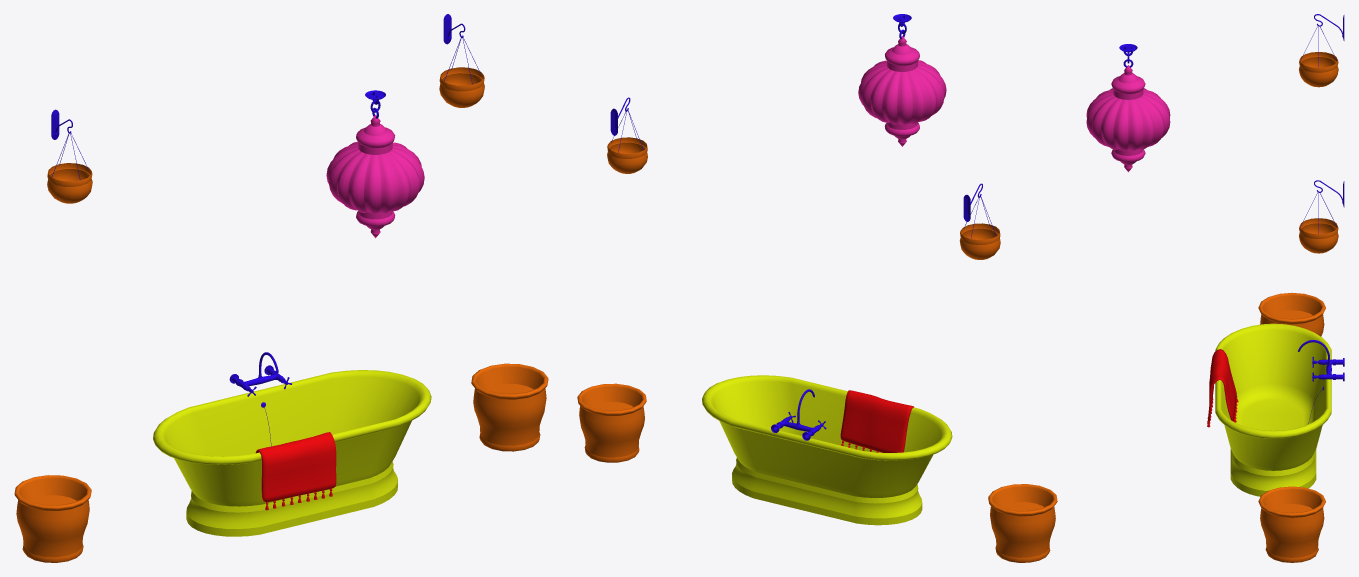
The model's file is sm_bathtub.fbx.
3 renders of one model, left to right at view 1: azimuth 30°, elevation 25°; view 2: azimuth 150°, elevation 25°; view 3: azimuth 270°, elevation 25°, orthographic. The views are drawn at different scales.
Parts seen in each view (by area): view 1: sm_tub, sm_flowerpot.001, sm_flowerpot, sm_lamp.004, sm_towel.019, sm_hanging_pot.004, sm_hanging_pot.005, sm_lamp.005, sm_faucet; view 2: sm_tub, sm_flowerpot.001, sm_flowerpot, sm_lamp.004, sm_towel.019, sm_hanging_pot.005, sm_hanging_pot.004, sm_lamp.005; view 3: sm_tub, sm_flowerpot.001, sm_lamp.004, sm_flowerpot, sm_hanging_pot.004, sm_hanging_pot.005, sm_towel.019, sm_lamp.005, sm_faucet, sm_lamp.006.
Part boxes in pixels (x1,y1,x2,y2): sm_tub: (153,370,431,536); sm_flowerpot.001: (471,363,548,451); sm_flowerpot: (14,475,91,562); sm_lamp.004: (326,141,424,213); sm_towel.019: (255,432,336,502); sm_hanging_pot.004: (439,67,484,107); sm_hanging_pot.005: (47,163,92,203); sm_lamp.005: (356,115,395,154); sm_faucet: (229,352,288,393); sm_tub: (702,375,952,525); sm_flowerpot.001: (577,383,646,462); sm_flowerpot: (988,484,1057,562); sm_lamp.004: (858,60,946,124); sm_towel.019: (840,390,914,452); sm_hanging_pot.005: (959,223,1000,259); sm_hanging_pot.004: (607,137,647,173); sm_lamp.005: (885,36,919,71); sm_tub: (1215,323,1331,496); sm_flowerpot.001: (1258,486,1325,562); sm_lamp.004: (1086,88,1170,151); sm_flowerpot: (1258,292,1325,336); sm_hanging_pot.004: (1299,218,1338,253); sm_hanging_pot.005: (1299,52,1338,87); sm_towel.019: (1207,349,1236,421); sm_lamp.005: (1111,65,1145,99); sm_faucet: (1298,340,1344,381); sm_lamp.006: (1111,149,1145,172).
Bounding box in the file's own units: 374 × 321 × 184.
